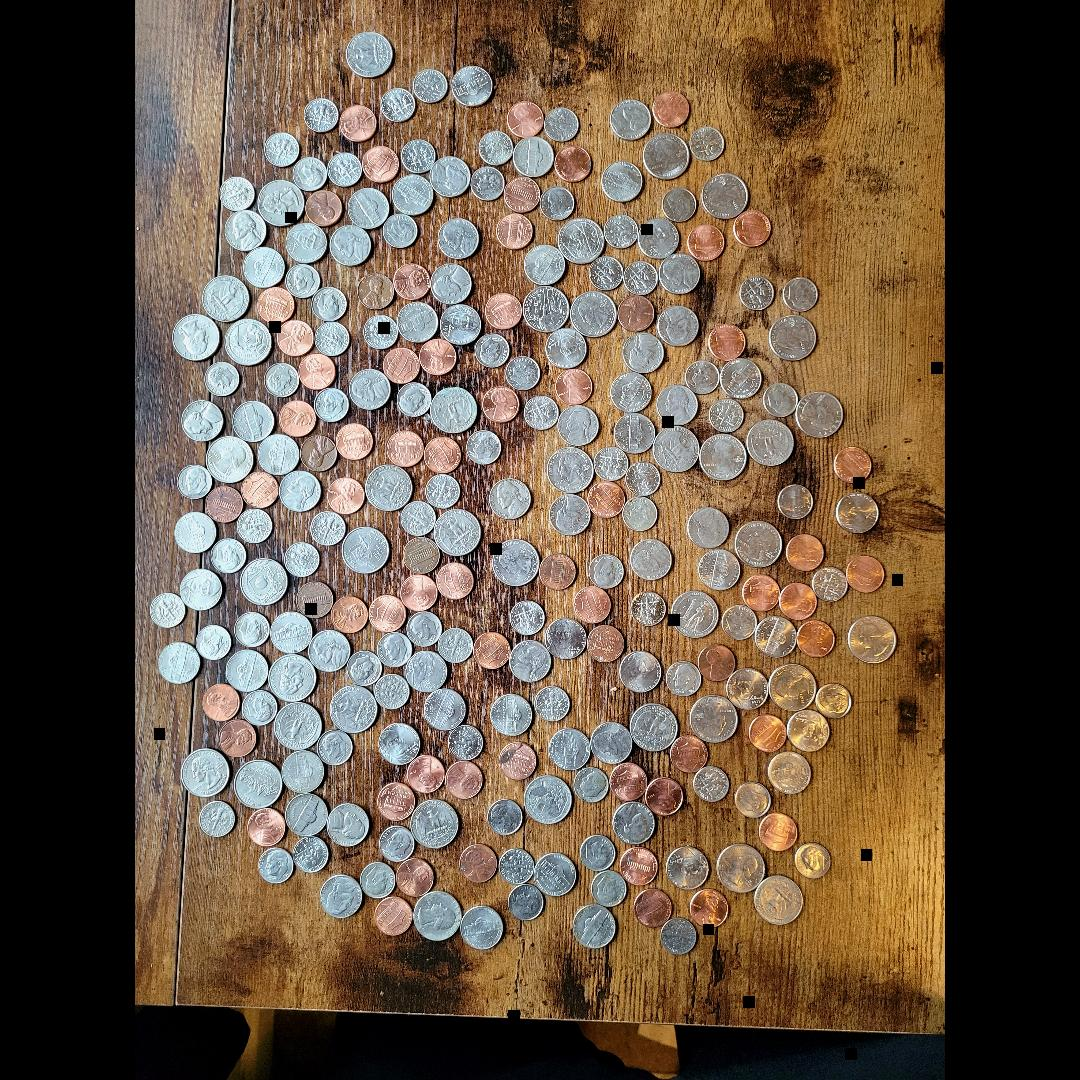Dime: (257, 846, 293, 884), (660, 917, 696, 955), (293, 836, 329, 873), (487, 799, 524, 835), (794, 843, 830, 880), (622, 496, 658, 532), (721, 604, 757, 640), (406, 611, 442, 647), (284, 542, 320, 578), (199, 801, 235, 837), (534, 686, 570, 722), (359, 863, 395, 899), (580, 836, 616, 872), (345, 652, 383, 686), (778, 484, 813, 520), (235, 612, 270, 648), (151, 592, 186, 628), (317, 730, 352, 766), (379, 826, 414, 862), (241, 691, 278, 725), (815, 683, 850, 718), (400, 140, 436, 174), (314, 322, 350, 356), (762, 383, 798, 417), (708, 398, 744, 432), (812, 567, 848, 601), (588, 554, 624, 588), (630, 592, 666, 626), (511, 600, 545, 636), (401, 500, 435, 536), (377, 632, 411, 668), (310, 512, 346, 546), (212, 538, 246, 574), (375, 674, 409, 710), (449, 724, 483, 760), (500, 848, 534, 884), (575, 766, 609, 802), (592, 871, 626, 907), (694, 766, 728, 802), (626, 462, 660, 497), (384, 213, 418, 248), (740, 276, 774, 311), (624, 262, 659, 296), (603, 215, 638, 249), (265, 363, 300, 397), (313, 388, 348, 422), (364, 315, 399, 349), (475, 334, 509, 369), (466, 430, 501, 464), (437, 629, 472, 663), (196, 625, 230, 660), (177, 464, 212, 498), (666, 661, 700, 696), (294, 157, 328, 191), (327, 153, 361, 187), (304, 99, 338, 133), (479, 132, 513, 166), (545, 108, 579, 142), (471, 167, 505, 201), (589, 256, 623, 290), (690, 127, 724, 161), (662, 188, 696, 222), (205, 362, 239, 396), (312, 287, 346, 321), (286, 264, 320, 298), (397, 383, 431, 417), (506, 356, 540, 390), (524, 396, 558, 430), (685, 361, 719, 395), (783, 278, 817, 312), (594, 448, 628, 482), (426, 474, 460, 508), (238, 509, 272, 543), (508, 886, 542, 920), (412, 70, 448, 102), (221, 178, 256, 210), (265, 134, 299, 166), (382, 88, 414, 122), (540, 188, 573, 220)
Nickel: (282, 750, 324, 796), (320, 874, 364, 917), (573, 904, 616, 948), (533, 852, 577, 895), (786, 711, 829, 754), (461, 907, 503, 951), (666, 846, 708, 890), (284, 794, 328, 836), (548, 727, 590, 771), (753, 616, 797, 658), (307, 630, 351, 672), (180, 568, 222, 612), (424, 689, 466, 732), (835, 492, 878, 534), (612, 802, 654, 844), (158, 642, 200, 684), (226, 649, 268, 691), (490, 694, 532, 736), (727, 668, 769, 710), (182, 399, 224, 441), (270, 612, 312, 654), (378, 722, 420, 764), (285, 222, 327, 264), (437, 218, 479, 260), (346, 188, 390, 228), (686, 508, 730, 548), (720, 357, 762, 398), (328, 804, 369, 846), (243, 246, 284, 288), (601, 162, 644, 202), (769, 752, 812, 792), (524, 245, 566, 285), (657, 306, 699, 346), (638, 218, 678, 260), (610, 100, 652, 140), (428, 157, 470, 197), (392, 174, 432, 216), (224, 211, 266, 251), (510, 640, 550, 682), (622, 333, 664, 373), (619, 652, 661, 692), (592, 722, 632, 764), (698, 549, 740, 589), (630, 539, 672, 579), (490, 478, 530, 520), (610, 372, 652, 412), (656, 386, 698, 426), (258, 434, 298, 476), (349, 369, 391, 409), (174, 512, 216, 552), (440, 304, 480, 346), (545, 329, 586, 369), (452, 66, 493, 106), (232, 401, 273, 441), (397, 302, 438, 342), (660, 254, 700, 294), (513, 138, 553, 178), (545, 618, 585, 658), (550, 495, 590, 535), (614, 413, 654, 453), (280, 471, 320, 511), (330, 226, 370, 266), (431, 264, 471, 304), (560, 407, 600, 445)
Penny: (458, 844, 498, 884), (783, 533, 822, 573), (698, 644, 738, 683), (356, 272, 396, 310), (834, 446, 874, 484), (586, 480, 626, 518), (498, 740, 536, 780), (670, 734, 708, 774), (395, 856, 433, 896), (690, 888, 727, 928), (506, 100, 544, 138), (732, 210, 770, 248), (202, 684, 240, 722), (376, 783, 414, 821), (406, 755, 444, 793), (758, 812, 796, 850), (384, 431, 424, 467), (740, 576, 780, 612), (246, 808, 286, 844), (634, 887, 670, 927), (484, 293, 522, 330), (436, 562, 473, 600), (645, 776, 682, 814), (374, 897, 411, 935), (796, 622, 835, 658), (402, 537, 441, 573), (369, 594, 406, 631), (651, 92, 689, 128), (495, 213, 533, 249), (362, 146, 400, 182), (257, 287, 295, 323), (420, 338, 456, 376), (483, 386, 521, 422), (538, 554, 576, 590), (204, 485, 242, 521), (330, 596, 366, 634), (620, 848, 658, 884), (848, 554, 882, 594), (304, 190, 341, 226), (276, 320, 313, 356), (279, 400, 316, 436), (337, 422, 373, 459), (301, 436, 338, 472), (748, 714, 785, 750), (400, 576, 437, 612), (241, 472, 278, 508), (444, 762, 481, 798), (554, 146, 590, 182), (688, 225, 724, 261), (709, 325, 745, 361), (393, 264, 429, 300), (298, 353, 334, 389), (384, 347, 420, 383), (424, 436, 460, 472), (779, 584, 815, 620), (587, 626, 623, 662), (474, 633, 510, 669), (328, 477, 364, 513), (296, 581, 332, 617), (219, 720, 255, 756), (610, 764, 646, 800), (502, 178, 540, 212), (338, 106, 376, 140), (734, 782, 772, 816), (618, 295, 654, 330), (555, 370, 591, 404), (574, 587, 610, 621)
Quarter: (524, 775, 572, 825), (201, 274, 249, 322), (434, 508, 482, 556), (235, 760, 283, 808), (630, 704, 678, 752), (690, 695, 738, 743), (414, 892, 462, 940), (410, 800, 458, 848), (849, 616, 896, 664), (768, 664, 815, 712), (756, 874, 802, 923), (256, 180, 304, 226), (226, 318, 272, 366), (796, 392, 844, 438), (430, 386, 476, 434), (241, 558, 287, 606), (274, 703, 322, 749), (329, 686, 377, 732), (672, 591, 718, 639), (718, 844, 764, 892), (643, 132, 689, 179), (173, 314, 220, 360), (493, 539, 540, 585), (270, 655, 317, 701), (525, 286, 570, 334), (346, 32, 392, 78), (702, 173, 748, 219), (558, 218, 604, 264), (770, 315, 816, 361), (748, 419, 794, 465), (700, 434, 746, 480), (653, 427, 699, 473), (342, 527, 388, 573), (366, 465, 412, 511), (735, 522, 781, 568), (182, 750, 228, 796), (570, 292, 616, 336), (548, 447, 592, 493)
